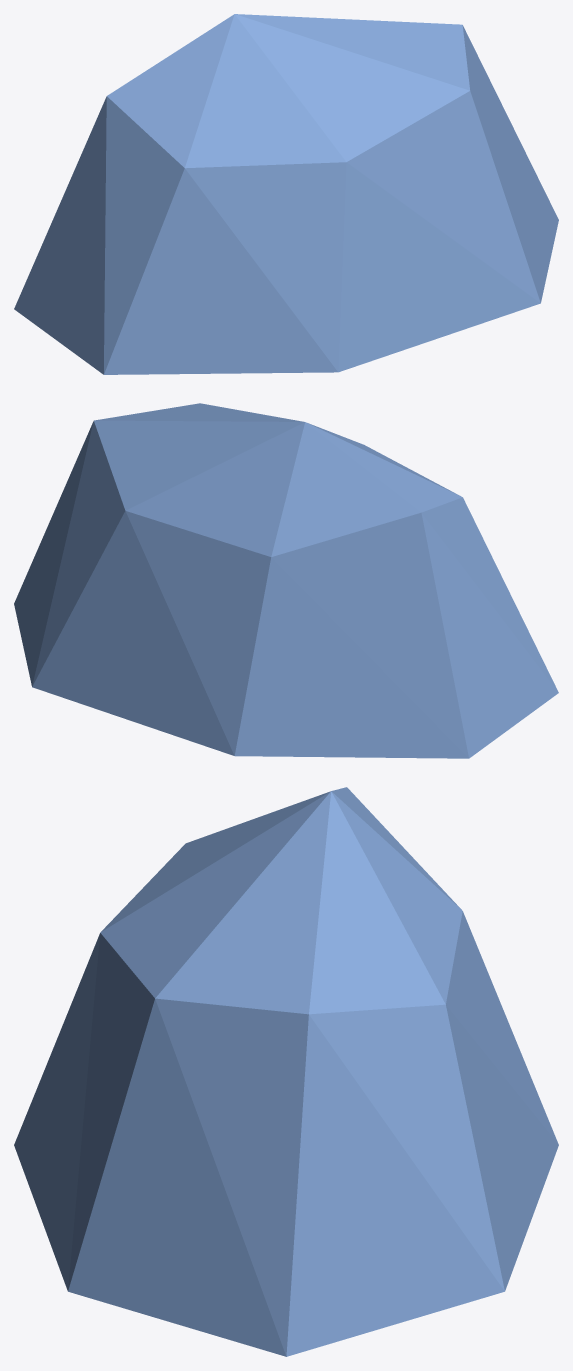
The picture shows the model from 3 angles, top to bottom: view 1: azimuth 30°, elevation 25°; view 2: azimuth 150°, elevation 25°; view 3: azimuth 270°, elevation 25°; orthographic projection. The views are drawn at different scales.
Parts seen in each view (by area): view 1: 区域散石_SnowRock.001; view 2: 区域散石_SnowRock.001; view 3: 区域散石_SnowRock.001.
Part boxes in pixels (<box>): 区域散石_SnowRock.001: <box>14,14,558,374</box>; 区域散石_SnowRock.001: <box>14,403,558,758</box>; 区域散石_SnowRock.001: <box>14,787,558,1356</box>.
Bounding box in the file's own units: 0.4182 × 0.215 × 0.2925.
